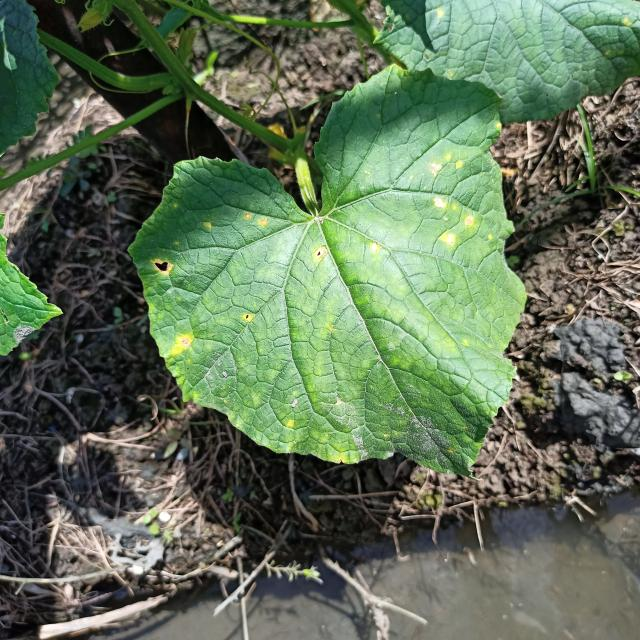disease_cucumber: (427, 150, 478, 248), (166, 332, 198, 357), (149, 255, 177, 279), (242, 210, 272, 231), (312, 246, 328, 262), (370, 240, 380, 254), (242, 312, 254, 322)
